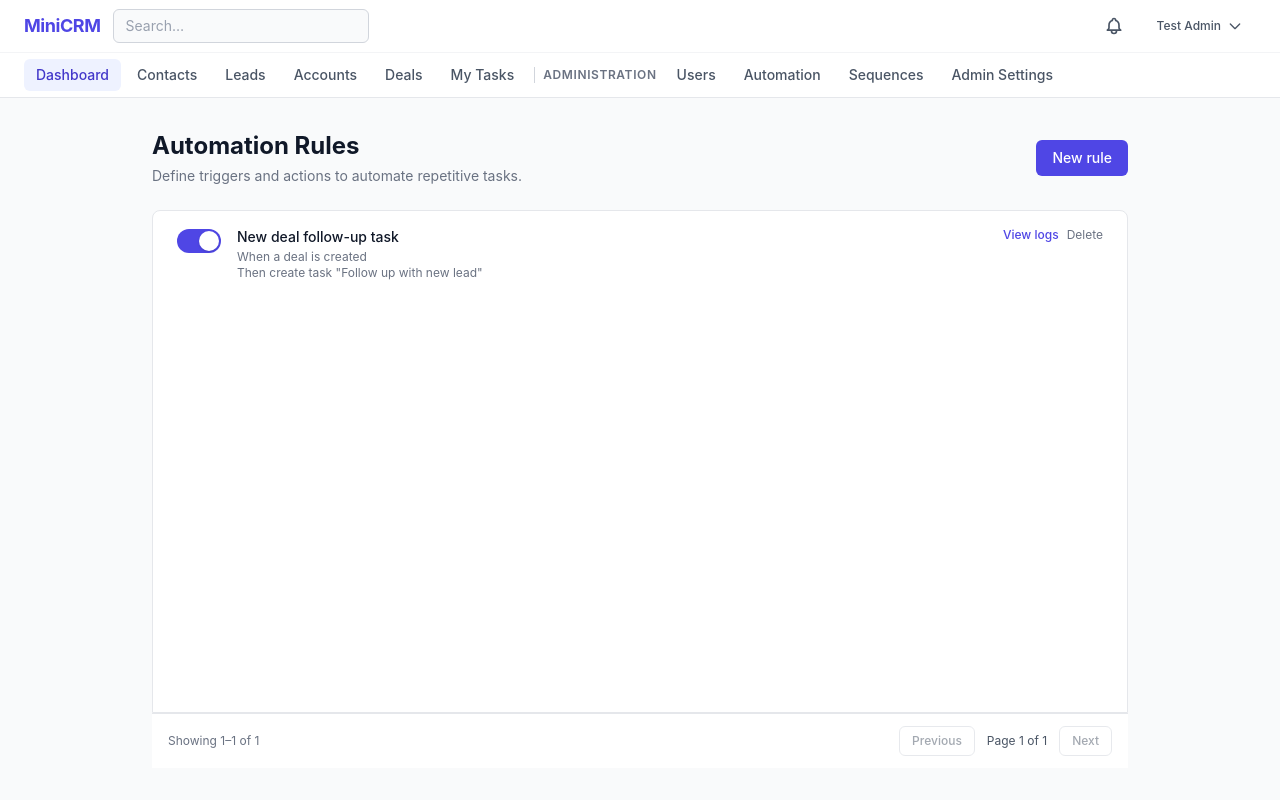
AutomationRulesPage › create rule form › shows the create form when "New rule" is clicked
What coordinates should you click on to do the following:
click the button with test id "new-rule-button"
I would click on:
 (1082, 158)
Its box is [1036, 140, 1128, 176].
(page scrolled)
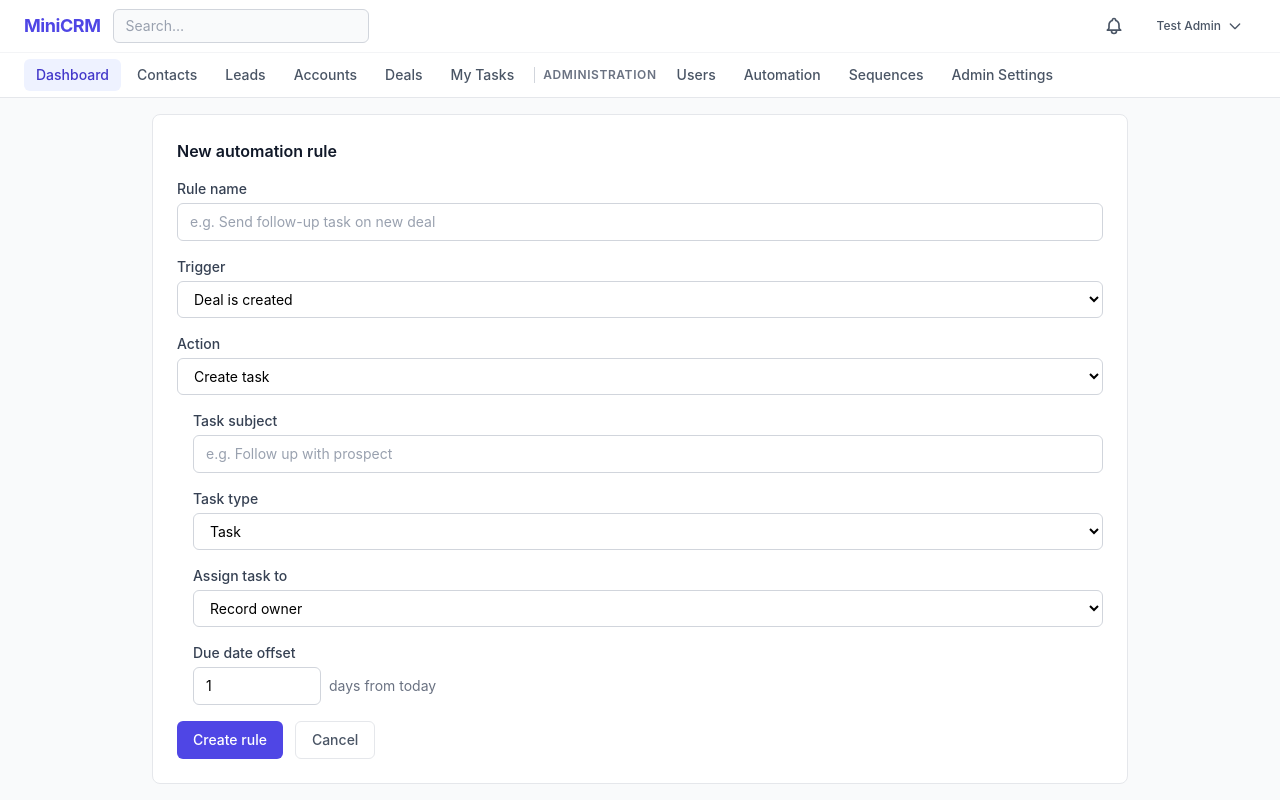
Result: the form with test id "create-rule-form" is shown
